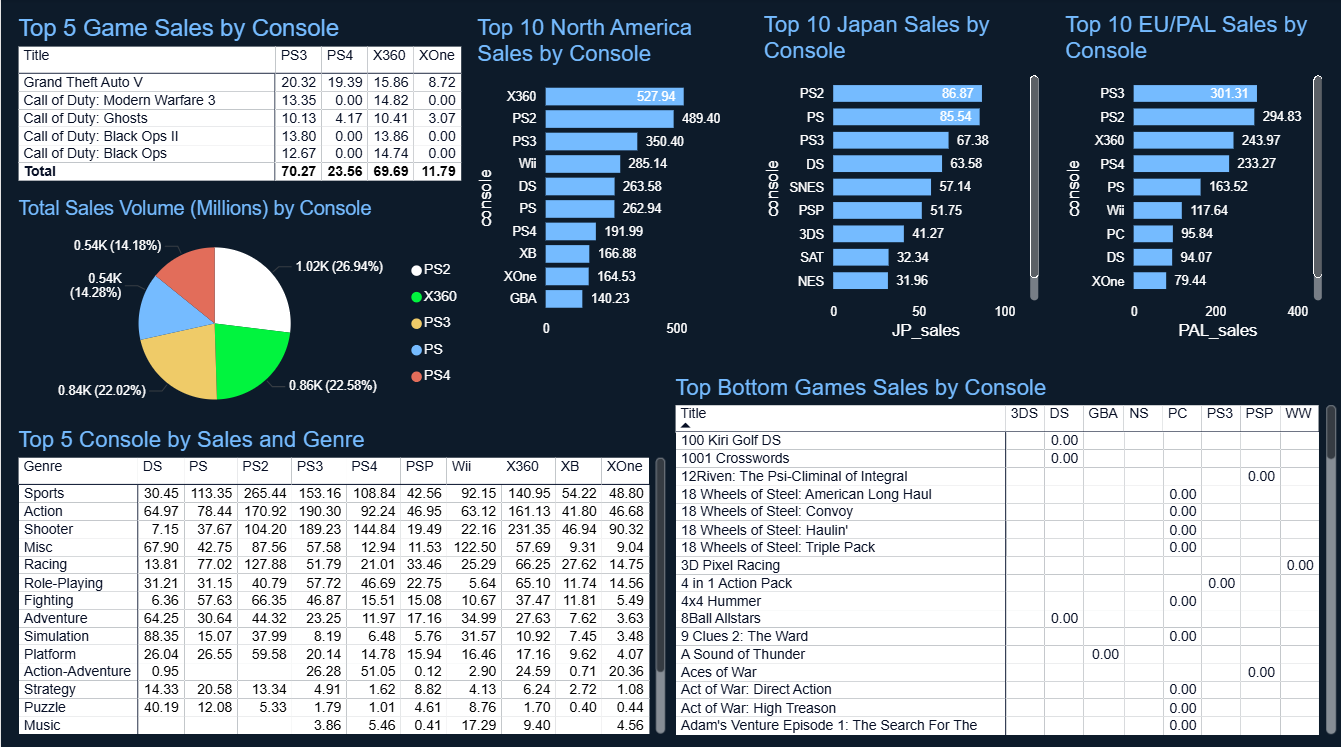

What the dashboard file says about the page in this screenshot:
{"tool":"powerbi","page":{"name":"Sales by Console","canvas":[1280,720],"ordinal":2},"visuals":[{"type":"clusteredBarChart","title":"Top 10 North America Sales by Console","fields":{"Category":["Dim_Console.console"],"Y":["_Measures.US_sales"]},"box":[449.8,15.1,257,315.6],"z":0},{"type":"clusteredBarChart","title":"Top 10 Japan Sales by Console","fields":{"Category":["Dim_Console.console"],"Y":["_Measures.JP_sales"]},"box":[723.8,13.2,272.1,317.5],"z":1000},{"type":"clusteredBarChart","title":"Top 10 EU/PAL Sales by Console","fields":{"Category":["Dim_Console.console"],"Y":["_Measures.EU_sales"]},"box":[1011,13.2,255.1,317.5],"z":2000},{"type":"pivotTable","title":"Top 5 Console by Sales and Genre","fields":{"Rows":["Dim_Genre.genre"],"Values":["Sum(Fact_Games.total_sales)"],"Columns":["Dim_Game.console"]},"box":[11.4,409.9,627.8,297.7],"z":3000},{"type":"pivotTable","title":"Top 5 Game Sales by Console","fields":{"Values":["_Measures.Total Sales Volume (Millions)"],"Columns":["Dim_Console.console"],"Rows":["Dim_Game.title"]},"box":[11.3,15.1,438.4,175.7],"z":4000},{"type":"pivotTable","title":"Top Bottom Games Sales by Console ","fields":{"Rows":["Dim_Game.title"],"Values":["_Measures.Total Sales Volume (Millions)"],"Columns":["Dim_Game.console"]},"box":[639.2,359.5,640.9,348.1],"z":5000},{"type":"pieChart","title":"Total Sales Volume (Millions) by Console","fields":{"Category":["Dim_Game.console"],"Y":["_Measures.Total Sales Volume (Millions)"]},"box":[11.3,190.9,438.4,219.2],"z":6000}]}

Visuals, with their boxes in screenshot pixels (x1, y1, x2, y2), scaled from the page's 1280x720 canvas onto the 1341x747 screenshot:
"Top 10 North America Sales by Console" clusteredBarChart: <region>471, 16, 740, 343</region>
"Top 10 Japan Sales by Console" clusteredBarChart: <region>758, 14, 1043, 343</region>
"Top 10 EU/PAL Sales by Console" clusteredBarChart: <region>1059, 14, 1326, 343</region>
"Top 5 Console by Sales and Genre" pivotTable: <region>12, 425, 670, 734</region>
"Top 5 Game Sales by Console" pivotTable: <region>12, 16, 471, 198</region>
"Top Bottom Games Sales by Console " pivotTable: <region>670, 373, 1340, 734</region>
"Total Sales Volume (Millions) by Console" pieChart: <region>12, 198, 471, 425</region>
